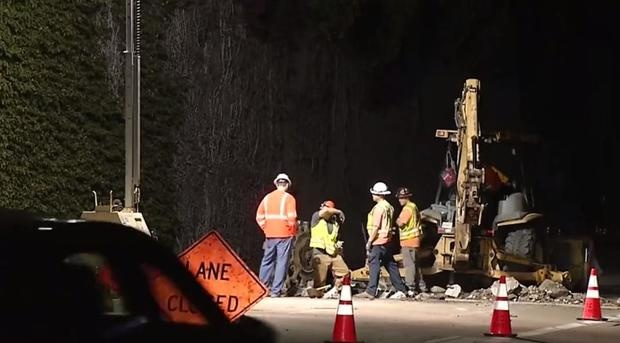blue: (397, 185, 411, 206)
red: (321, 200, 336, 218)
white: (370, 181, 387, 200), (274, 171, 290, 191)
